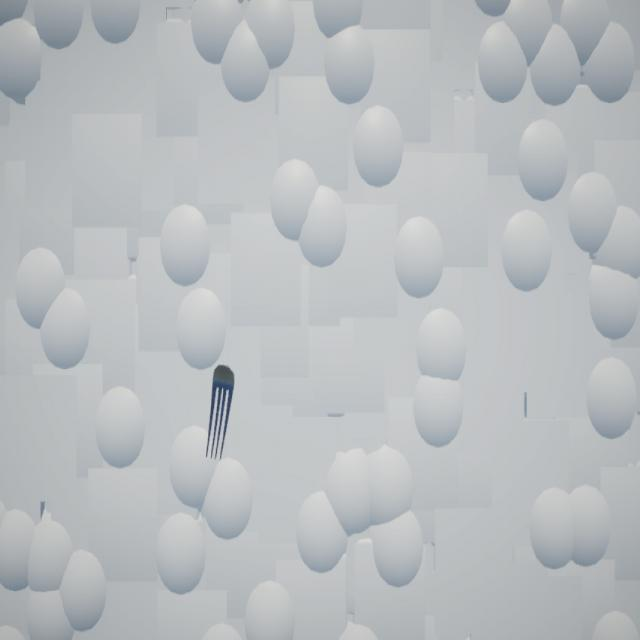top_folk: (206, 365, 236, 462)
